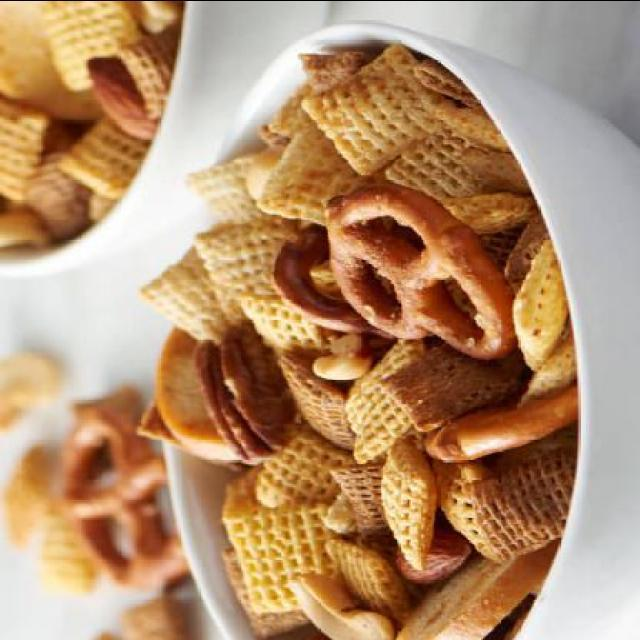Salatini packaged: (178, 66, 570, 614)
